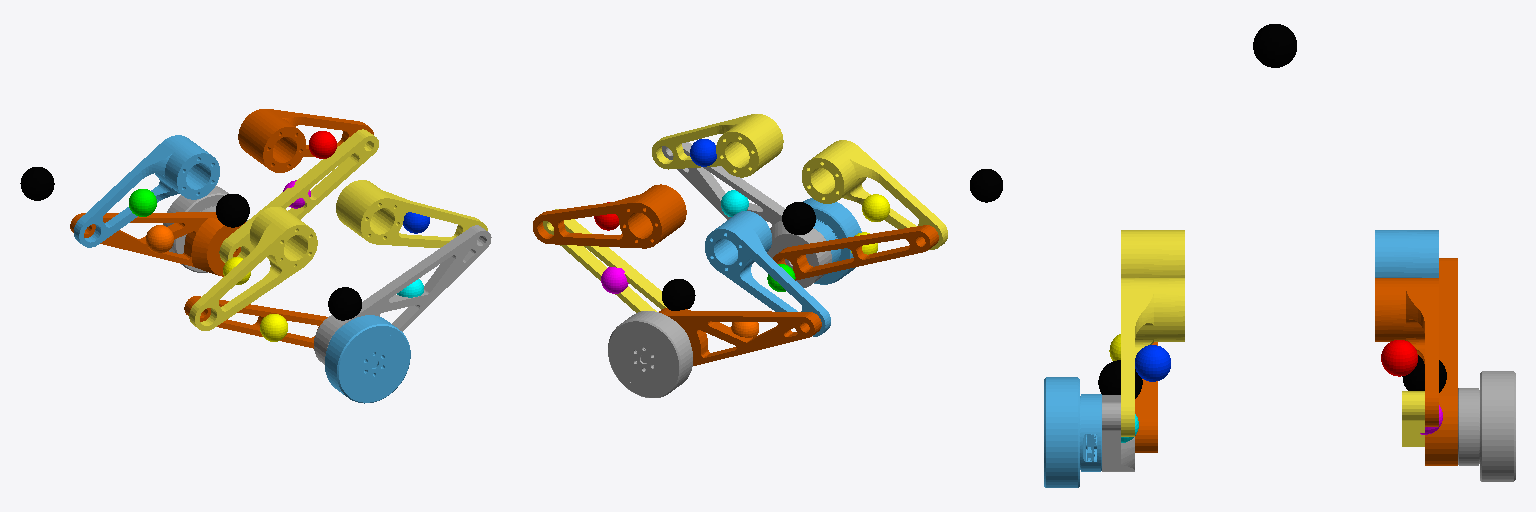
robot.urdf — wheel_leg_robot:
<?xml version="1.0"?>
<robot name="wheel_leg_robot">

  <!-- ================= materials ================= -->
  <material name="base_gray">
    <color rgba="0.65 0.65 0.65 1"/>
  </material>

  <material name="label_red">
    <color rgba="1 0 0 1"/>
  </material>

  <material name="label_green">
    <color rgba="0 1 0 1"/>
  </material>

  <material name="label_blue">
    <color rgba="0 0.25 1 1"/>
  </material>

  <material name="label_yellow">
    <color rgba="1 1 0 1"/>
  </material>

  <material name="label_magenta">
    <color rgba="1 0 1 1"/>
  </material>

  <material name="label_cyan">
    <color rgba="0 1 1 1"/>
  </material>

  <material name="label_orange">
    <color rgba="1 0.45 0 1"/>
  </material>

  <material name="label_black">
    <color rgba="0.02 0.02 0.02 1"/>
  </material>


  <!-- ================= world ================= -->
  <link name="world"/>


  <!-- ================= base ================= -->
  <link name="base_link">
    <visual>
      <origin xyz="0 0 0" rpy="0 1.5708 0"/>
      <geometry>
        <mesh filename="package://wheel_leg_description/meshes/visual/shell_and_big_motor.stl"
              scale="0.001 0.001 0.001"/>
      </geometry>
      <material name="base_gray"/>
    </visual>
  </link>

  <joint name="world_to_base" type="fixed">
    <parent link="world"/>
    <child link="base_link"/>
    <origin xyz="0 0 0" rpy="0 0 0"/>
  </joint>


  <!-- base label -->
  <link name="LABEL_0_BASE">
    <visual>
      <origin xyz="0 0 0" rpy="0 0 0"/>
      <geometry>
        <sphere radius="0.012"/>
      </geometry>
      <material name="label_black"/>
    </visual>
  </link>

  <joint name="label_0_base_joint" type="fixed">
    <parent link="base_link"/>
    <child link="LABEL_0_BASE"/>
    <origin xyz="0 0 0.080" rpy="0 0 0"/>
  </joint>


  <!-- ========================================================= -->
  <!-- big_arm_1: J1 -> K1 -> small_leg_wheel_1 -> W1 -> wheel_1 -->
  <!-- ========================================================= -->

  <link name="big_arm_1_link">
    <visual>
      <origin xyz="-0.231306 -0.053564 -0.030643" rpy="0 1.5708 0"/>
      <geometry>
        <mesh filename="package://wheel_leg_description/meshes/visual/big_arm_1.stl"
              scale="0.001 0.001 0.001"/>
      </geometry>
    </visual>
  </link>

  <joint name="big_arm_1_joint" type="revolute">
    <parent link="base_link"/>
    <child link="big_arm_1_link"/>
    <origin xyz="0.231306 0.053564 0.030643" rpy="0 0 0"/>
    <axis xyz="0 1 0"/>
    <limit lower="-1.57" upper="1.57" effort="20" velocity="10"/>
  </joint>

  <link name="LABEL_1_BIG_ARM">
    <visual>
      <geometry>
        <sphere radius="0.010"/>
      </geometry>
      <material name="label_red"/>
    </visual>
  </link>

  <joint name="label_1_big_arm_joint" type="fixed">
    <parent link="big_arm_1_link"/>
    <child link="LABEL_1_BIG_ARM"/>
    <origin xyz="0.038571 0.013500 -0.010596" rpy="0 0 0"/>
  </joint>


  <link name="small_leg_wheel_1_link">
    <visual>
      <origin xyz="-0.308448 -0.080564 -0.009451" rpy="0 1.5708 0"/>
      <geometry>
        <mesh filename="package://wheel_leg_description/meshes/visual/small_leg_wheel_1.stl"
              scale="0.001 0.001 0.001"/>
      </geometry>
    </visual>
  </link>

  <joint name="knee_1_joint" type="revolute">
    <parent link="big_arm_1_link"/>
    <child link="small_leg_wheel_2_link"/>
    <origin xyz="0.074699 -0.137000 -0.028637" rpy="0 0 0"/>
    <axis xyz="0 1 0"/>
    <limit lower="-2.5" upper="2.5" effort="20" velocity="10"/>
  </joint>

  <link name="LABEL_5_SMALL_LEG_WHEEL">
    <visual>
      <geometry>
        <sphere radius="0.010"/>
      </geometry>
      <material name="label_magenta"/>
    </visual>
  </link>

  <joint name="label_5_small_leg_wheel_joint" type="fixed">
    <parent link="small_leg_wheel_1_link"/>
    <child link="LABEL_5_SMALL_LEG_WHEEL"/>
    <origin xyz="-0.051814 0 -0.030254" rpy="0 0 0"/>
  </joint>


  <link name="wheel_motor_1_link">
    <visual>
      <origin xyz="-0.204820 -0.080564 0.051057" rpy="0 1.5708 0"/>
      <geometry>
        <mesh filename="package://wheel_leg_description/meshes/visual/wheel_motor_1.stl"
              scale="0.001 0.001 0.001"/>
      </geometry>
    </visual>
  </link>

  <joint name="wheel_1_joint" type="continuous">
    <parent link="small_leg_wheel_1_link"/>
    <child link="wheel_motor_1_link"/>
    <origin xyz="-0.103628 0 -0.060508" rpy="0 0 0"/>
    <axis xyz="0 1 0"/>
  </joint>

  <link name="LABEL_9_WHEEL_MOTOR">
    <visual>
      <geometry>
        <sphere radius="0.012"/>
      </geometry>
      <material name="label_black"/>
    </visual>
  </link>

  <joint name="label_9_wheel_motor_joint" type="fixed">
    <parent link="wheel_motor_1_link"/>
    <child link="LABEL_9_WHEEL_MOTOR"/>
    <origin xyz="0 0 0.030" rpy="0 0 0"/>
  </joint>


  <!-- ========================================== -->
  <!-- big_arm_2: J2 -> K2 -> small_leggy_1        -->
  <!-- ========================================== -->

  <link name="big_arm_2_link">
    <visual>
      <origin xyz="-0.161440 -0.053564 -0.026313" rpy="0 1.5708 0"/>
      <geometry>
        <mesh filename="package://wheel_leg_description/meshes/visual/big_arm_2.stl"
              scale="0.001 0.001 0.001"/>
      </geometry>
    </visual>
  </link>

  <joint name="big_arm_2_joint" type="revolute">
    <parent link="base_link"/>
    <child link="big_arm_2_link"/>
    <origin xyz="0.161440 0.053564 0.026313" rpy="0 0 0"/>
    <axis xyz="0 1 0"/>
    <limit lower="-1.57" upper="1.57" effort="20" velocity="10"/>
  </joint>

  <link name="LABEL_2_BIG_ARM">
    <visual>
      <geometry>
        <sphere radius="0.010"/>
      </geometry>
      <material name="label_green"/>
    </visual>
  </link>

  <joint name="label_2_big_arm_joint" type="fixed">
    <parent link="big_arm_2_link"/>
    <child link="LABEL_2_BIG_ARM"/>
    <origin xyz="-0.035071 0.017500 -0.019237" rpy="0 0 0"/>
  </joint>


  <link name="small_leggy_1_link">
    <visual>
      <origin xyz="-0.091299 -0.088564 0.012160" rpy="0 1.5708 0"/>
      <geometry>
        <mesh filename="package://wheel_leg_description/meshes/visual/small_leggy_1.stl"
              scale="0.001 0.001 0.001"/>
      </geometry>
    </visual>
  </link>

  <joint name="knee_2_joint" type="revolute">
    <parent link="big_arm_2_link"/>
    <child link="small_leggy_1_link"/>
    <origin xyz="-0.070141 0.035000 -0.038473" rpy="0 0 0"/>
    <axis xyz="0 1 0"/>
    <limit lower="-2.5" upper="2.5" effort="20" velocity="10"/>
  </joint>

  <link name="LABEL_7_SMALL_LEGGY">
    <visual>
      <geometry>
        <sphere radius="0.010"/>
      </geometry>
      <material name="label_orange"/>
    </visual>
  </link>

  <joint name="label_7_small_leggy_joint" type="fixed">
    <parent link="small_leggy_1_link"/>
    <child link="LABEL_7_SMALL_LEGGY"/>
    <origin xyz="0.056761 -0.004000 -0.019449" rpy="0 0 0"/>
  </joint>


  <!-- ========================================================= -->
  <!-- big_arm_3: J3 -> K3 -> small_leg_wheel_2 -> W2 -> wheel_2 -->
  <!-- ========================================================= -->

  <link name="big_arm_3_link">
    <visual>
      <origin xyz="-0.231306 0.048436 -0.030643" rpy="0 1.5708 0"/>
      <geometry>
        <mesh filename="package://wheel_leg_description/meshes/visual/big_arm_3.stl"
              scale="0.001 0.001 0.001"/>
      </geometry>
    </visual>
  </link>

  <joint name="big_arm_3_joint" type="revolute">
    <parent link="base_link"/>
    <child link="big_arm_3_link"/>
    <origin xyz="0.231306 -0.048436 0.030643" rpy="0 0 0"/>
    <axis xyz="0 1 0"/>
    <limit lower="-1.57" upper="1.57" effort="20" velocity="10"/>
  </joint>

  <link name="LABEL_3_BIG_ARM">
    <visual>
      <geometry>
        <sphere radius="0.010"/>
      </geometry>
      <material name="label_blue"/>
    </visual>
  </link>

  <joint name="label_3_big_arm_joint" type="fixed">
    <parent link="big_arm_3_link"/>
    <child link="LABEL_3_BIG_ARM"/>
    <origin xyz="0.037350 -0.017500 -0.014319" rpy="0 0 0"/>
  </joint>


  <link name="small_leg_wheel_2_link">
    <visual>
      <origin xyz="-0.306005 0.083436 -0.002006" rpy="0 1.5708 0"/>
      <geometry>
        <mesh filename="package://wheel_leg_description/meshes/visual/small_leg_wheel_2.stl"
              scale="0.001 0.001 0.001"/>
      </geometry>
    </visual>
  </link>

  <joint name="knee_3_joint" type="revolute">
    <parent link="big_arm_3_link"/>
    <child link="small_leg_wheel_1_link"/>
    <origin xyz="0.077142 0.129000 -0.021192" rpy="0 0 0"/>
    <axis xyz="0 1 0"/>
    <limit lower="-2.5" upper="2.5" effort="20" velocity="10"/>
  </joint>

  <link name="LABEL_6_SMALL_LEG_WHEEL">
    <visual>
      <geometry>
        <sphere radius="0.010"/>
      </geometry>
      <material name="label_cyan"/>
    </visual>
  </link>

  <joint name="label_6_small_leg_wheel_joint" type="fixed">
    <parent link="small_leg_wheel_2_link"/>
    <child link="LABEL_6_SMALL_LEG_WHEEL"/>
    <origin xyz="-0.052399 0 -0.029230" rpy="0 0 0"/>
  </joint>


  <link name="wheel_motor_2_link">
    <visual>
      <origin xyz="-0.201207 0.083436 0.056453" rpy="0 1.5708 0"/>
      <geometry>
        <mesh filename="package://wheel_leg_description/meshes/visual/wheel_motor_2.stl"
              scale="0.001 0.001 0.001"/>
      </geometry>
    </visual>
  </link>

  <joint name="wheel_2_joint" type="continuous">
    <parent link="small_leg_wheel_2_link"/>
    <child link="wheel_motor_2_link"/>
    <origin xyz="-0.104798 0 -0.058459" rpy="0 0 0"/>
    <axis xyz="0 1 0"/>
  </joint>

  <link name="LABEL_10_WHEEL_MOTOR">
    <visual>
      <geometry>
        <sphere radius="0.012"/>
      </geometry>
      <material name="label_black"/>
    </visual>
  </link>

  <joint name="label_10_wheel_motor_joint" type="fixed">
    <parent link="wheel_motor_2_link"/>
    <child link="LABEL_10_WHEEL_MOTOR"/>
    <origin xyz="0 0 0.030" rpy="0 0 0"/>
  </joint>


  <!-- ========================================== -->
  <!-- big_arm_4: J4 -> K4 -> small_leggy_2        -->
  <!-- ========================================== -->

  <link name="big_arm_4_link">
    <visual>
      <origin xyz="-0.161440 0.048436 -0.026313" rpy="0 1.5708 0"/>
      <geometry>
        <mesh filename="package://wheel_leg_description/meshes/visual/big_arm_4.stl"
              scale="0.001 0.001 0.001"/>
      </geometry>
    </visual>
  </link>

  <joint name="big_arm_4_joint" type="revolute">
    <parent link="base_link"/>
    <child link="big_arm_4_link"/>
    <origin xyz="0.161440 -0.048436 0.026313" rpy="0 0 0"/>
    <axis xyz="0 1 0"/>
    <limit lower="-1.57" upper="1.57" effort="20" velocity="10"/>
  </joint>

  <link name="LABEL_4_BIG_ARM">
    <visual>
      <geometry>
        <sphere radius="0.010"/>
      </geometry>
      <material name="label_yellow"/>
    </visual>
  </link>

  <joint name="label_4_big_arm_joint" type="fixed">
    <parent link="big_arm_4_link"/>
    <child link="LABEL_4_BIG_ARM"/>
    <origin xyz="-0.035530 -0.013500 -0.018375" rpy="0 0 0"/>
  </joint>


  <link name="small_leggy_2_link">
    <visual>
      <origin xyz="-0.090381 0.075436 0.010437" rpy="0 1.5708 0"/>
      <geometry>
        <mesh filename="package://wheel_leg_description/meshes/visual/small_leggy_2.stl"
              scale="0.001 0.001 0.001"/>
      </geometry>
    </visual>
  </link>

  <joint name="knee_4_joint" type="revolute">
    <parent link="big_arm_4_link"/>
    <child link="small_leggy_2_link"/>
    <origin xyz="-0.071059 -0.027000 -0.036750" rpy="0 0 0"/>
    <axis xyz="0 1 0"/>
    <limit lower="-2.5" upper="2.5" effort="20" velocity="10"/>
  </joint>

  <link name="LABEL_8_SMALL_LEGGY">
    <visual>
      <geometry>
        <sphere radius="0.010"/>
      </geometry>
      <material name="label_yellow"/>
    </visual>
  </link>

  <joint name="label_8_small_leggy_joint" type="fixed">
    <parent link="small_leggy_2_link"/>
    <child link="LABEL_8_SMALL_LEGGY"/>
    <origin xyz="0.055413 -0.004000 -0.023008" rpy="0 0 0"/>
  </joint>

</robot>

--- What the picture shows (computed from the rendered views, not written in the file) ---
3 views of the same robot in one strip: view 1: azimuth 30°, elevation 25°; view 2: azimuth 150°, elevation 25°; view 3: azimuth 270°, elevation 25° (orthographic).
Robot: wheel_leg_robot — 23 links, 22 joints (8 revolute, 2 continuous, 12 fixed); root link world; default pose: all joints at 0.
Visible links, largest first — view 1: big_arm_4_link, wheel_motor_2_link, big_arm_2_link, small_leg_wheel_2_link, big_arm_1_link, big_arm_3_link, small_leg_wheel_1_link, small_leggy_1_link, small_leggy_2_link, wheel_motor_1_link, LABEL_0_BASE, LABEL_9_WHEEL_MOTOR (+5 smaller); view 2: wheel_motor_1_link, big_arm_3_link, big_arm_2_link, big_arm_4_link, big_arm_1_link, small_leg_wheel_1_link, small_leg_wheel_2_link, small_leggy_2_link, small_leggy_1_link, wheel_motor_2_link, LABEL_10_WHEEL_MOTOR, LABEL_0_BASE (+5 smaller); view 3: wheel_motor_2_link, wheel_motor_1_link, big_arm_1_link, big_arm_3_link, small_leg_wheel_1_link, big_arm_2_link, big_arm_4_link, small_leg_wheel_2_link, LABEL_0_BASE, small_leggy_2_link, small_leggy_1_link, LABEL_1_BIG_ARM (+3 smaller).
Boxes of the visible links, box(x1,y1,x2,y2) form: big_arm_4_link: box(189, 207, 317, 330); wheel_motor_2_link: box(325, 315, 410, 403); big_arm_2_link: box(74, 135, 219, 247); small_leg_wheel_2_link: box(314, 225, 491, 364); big_arm_1_link: box(336, 180, 487, 247); big_arm_3_link: box(238, 109, 373, 172); small_leg_wheel_1_link: box(70, 212, 245, 276); small_leggy_1_link: box(219, 129, 378, 262); small_leggy_2_link: box(184, 296, 327, 348); wheel_motor_1_link: box(163, 186, 247, 272); LABEL_0_BASE: box(20, 167, 54, 200); LABEL_9_WHEEL_MOTOR: box(216, 194, 249, 227); wheel_motor_1_link: box(608, 311, 692, 397); big_arm_3_link: box(533, 184, 686, 248); big_arm_2_link: box(705, 211, 830, 336); big_arm_4_link: box(802, 140, 947, 249); big_arm_1_link: box(652, 114, 783, 177); small_leg_wheel_1_link: box(659, 308, 821, 365); small_leg_wheel_2_link: box(662, 142, 831, 287); small_leggy_2_link: box(773, 225, 938, 280); small_leggy_1_link: box(543, 209, 666, 312); wheel_motor_2_link: box(803, 198, 861, 284); LABEL_10_WHEEL_MOTOR: box(782, 202, 815, 234); LABEL_0_BASE: box(970, 169, 1002, 202); wheel_motor_2_link: box(1044, 377, 1101, 487); wheel_motor_1_link: box(1458, 371, 1515, 481); big_arm_1_link: box(1121, 278, 1184, 436); big_arm_3_link: box(1375, 278, 1438, 426); small_leg_wheel_1_link: box(1425, 258, 1457, 465); big_arm_2_link: box(1375, 230, 1438, 277); big_arm_4_link: box(1121, 230, 1184, 277); small_leg_wheel_2_link: box(1102, 395, 1134, 471); LABEL_0_BASE: box(1253, 24, 1296, 67); small_leggy_2_link: box(1135, 342, 1157, 452); small_leggy_1_link: box(1402, 391, 1424, 446); LABEL_1_BIG_ARM: box(1381, 340, 1417, 376).
Size in the robot's own frame: 0.3314 by 0.254 by 0.1784 metres.
10 mesh visuals loaded from 11 distinct referenced files (10 binary STL); not drawn: 1 (reference not matched to a file when rendering).
